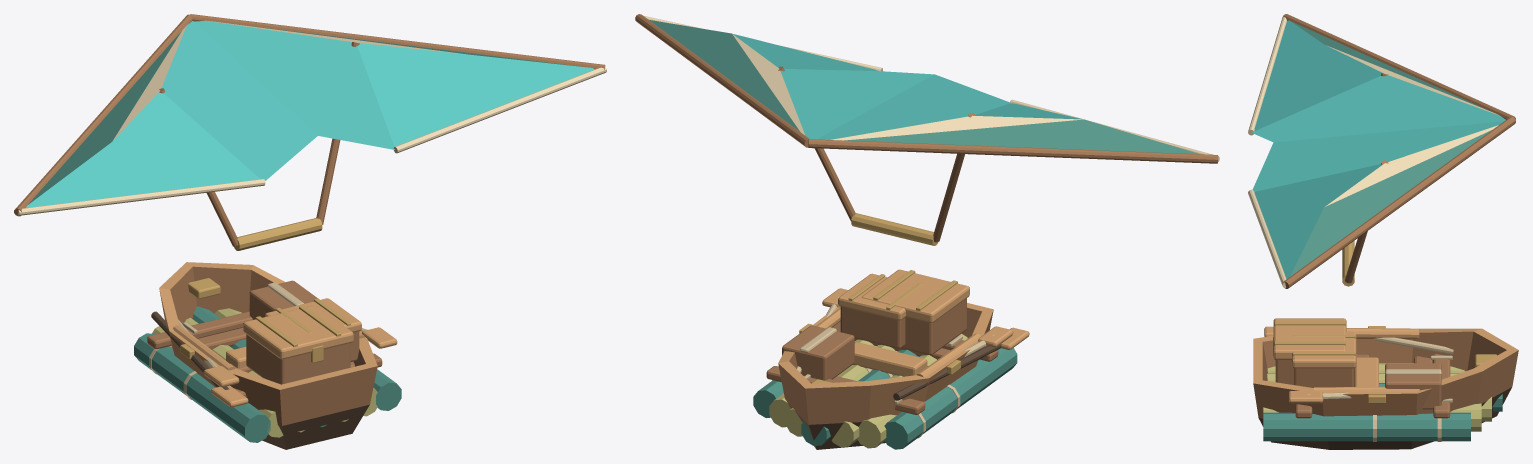
The model's file is rpg-watercraft.glb.
3 renders of one model, left to right at view 1: azimuth 30°, elevation 25°; view 2: azimuth 150°, elevation 25°; view 3: azimuth 270°, elevation 25°, orthographic. The views are drawn at different scales.
Parts seen in each view (by area): view 1: sail.003, sail.002, sail.001, sail, cedar, Cylinder.008, Cube.017, cedar.001, Cube.016, rim, jade, Cylinder.055 (+12 smaller); view 2: sail.002, jade, cedar, sail, Cylinder.052, jade.001, Cylinder.008, Cube.017, Cube.050, Cylinder.055, Cube.016, ivory (+18 smaller); view 3: sail, sail.002, sail.001, Cylinder.026, cedar, sail.003, jade.001, cedar.001, Cylinder.055, Cube.017, rim, ivory.001 (+22 smaller).
Part boxes in pixels (<box>): sail.003: <box>357,43,594,146</box>; sail.002: <box>193,20,394,149</box>; sail.001: <box>26,91,260,207</box>; sail: <box>161,21,317,180</box>; cedar: <box>159,291,377,425</box>; Cylinder.008: <box>134,333,270,442</box>; Cube.017: <box>243,305,353,359</box>; cedar.001: <box>170,266,365,366</box>; Cube.016: <box>246,334,350,384</box>; rim: <box>159,262,377,389</box>; jade: <box>28,31,181,204</box>; Cylinder.055: <box>190,14,605,69</box>; sail.002: <box>780,69,934,139</box>; jade: <box>844,119,1199,154</box>; cedar: <box>778,310,993,424</box>; sail: <box>816,74,1009,139</box>; Cylinder.052: <box>808,139,1218,163</box>; jade.001: <box>649,20,799,131</box>; Cylinder.008: <box>884,348,1017,449</box>; Cube.017: <box>861,269,969,323</box>; Cube.050: <box>782,325,854,380</box>; Cylinder.055: <box>635,14,809,147</box>; Cube.016: <box>901,298,966,355</box>; ivory: <box>831,115,1083,140</box>; sail: <box>1251,75,1505,142</box>; sail.002: <box>1252,121,1503,191</box>; sail.001: <box>1254,20,1383,130</box>; Cylinder.026: <box>1263,412,1470,441</box>; cedar: <box>1253,350,1518,418</box>; sail.003: <box>1254,164,1382,278</box>; jade.001: <box>1290,130,1491,276</box>; cedar.001: <box>1262,331,1506,380</box>; Cylinder.055: <box>1283,116,1515,288</box>; Cube.017: <box>1273,318,1346,359</box>; rim: <box>1253,328,1518,394</box>; ivory.001: <box>1325,125,1498,206</box>.
Bounding box in the file's own units: 3.14 × 1.69 × 1.34.
